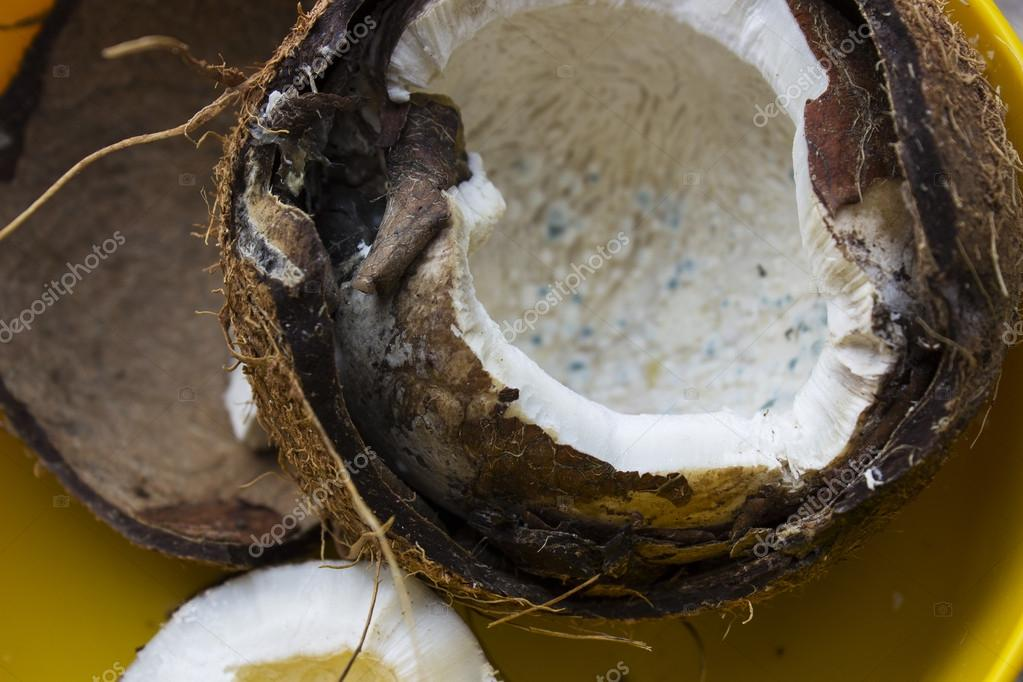damaged_coconut: (249, 9, 940, 534)
